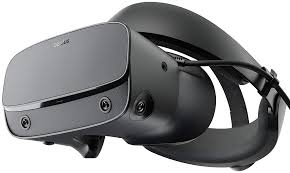oculus: (4, 24, 219, 156)
